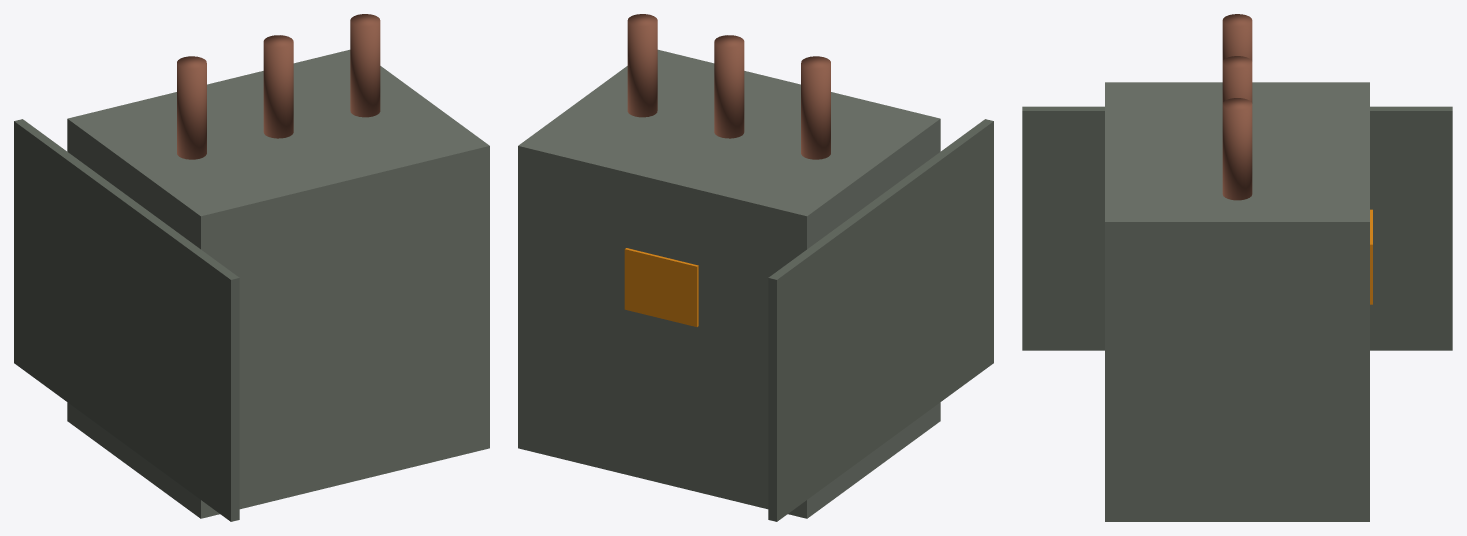
The model's file is Transformer.fbx.
The picture shows the model from 3 angles, left to right: view 1: azimuth 30°, elevation 25°; view 2: azimuth 150°, elevation 25°; view 3: azimuth 270°, elevation 25°; orthographic projection.
Parts seen in each view (by area): view 1: Tank, Fin0, Fin4, Fin1, Fin5, Fin3, Fin2, Bushing1, Bushing2, Bushing0; view 2: Tank, Fin1, Fin4, Fin5, Fin0, Warning, Bushing1, Bushing2, Bushing0, Fin3; view 3: Tank, Fin0, Fin5, Fin4, Fin1, Bushing2, Bushing0, Bushing1.
Part boxes in pixels (<box>): Tank: <box>67,49,489,518</box>; Fin0: <box>114,192,239,521</box>; Fin4: <box>34,134,150,416</box>; Fin1: <box>94,177,213,503</box>; Fin5: <box>14,119,131,403</box>; Fin3: <box>54,153,170,475</box>; Fin2: <box>74,165,190,455</box>; Bushing1: <box>263,35,293,138</box>; Bushing2: <box>350,14,380,117</box>; Bushing0: <box>177,56,206,159</box>; Tank: <box>518,49,940,518</box>; Fin1: <box>849,134,973,462</box>; Fin4: <box>790,178,913,506</box>; Fin5: <box>768,193,884,521</box>; Fin0: <box>869,119,993,377</box>; Warning: <box>624,248,698,326</box>; Bushing1: <box>714,35,744,138</box>; Bushing2: <box>627,14,657,117</box>; Bushing0: <box>801,56,830,159</box>; Fin3: <box>811,216,856,442</box>; Tank: <box>1105,82,1369,521</box>; Fin0: <box>1022,106,1104,350</box>; Fin5: <box>1370,106,1452,350</box>; Fin4: <box>1370,106,1412,350</box>; Fin1: <box>1062,106,1104,350</box>; Bushing2: <box>1222,98,1252,200</box>; Bushing0: <box>1222,14,1252,61</box>; Bushing1: <box>1222,56,1252,103</box>.
Bounding box in the file's own units: 208 × 260 × 260.
